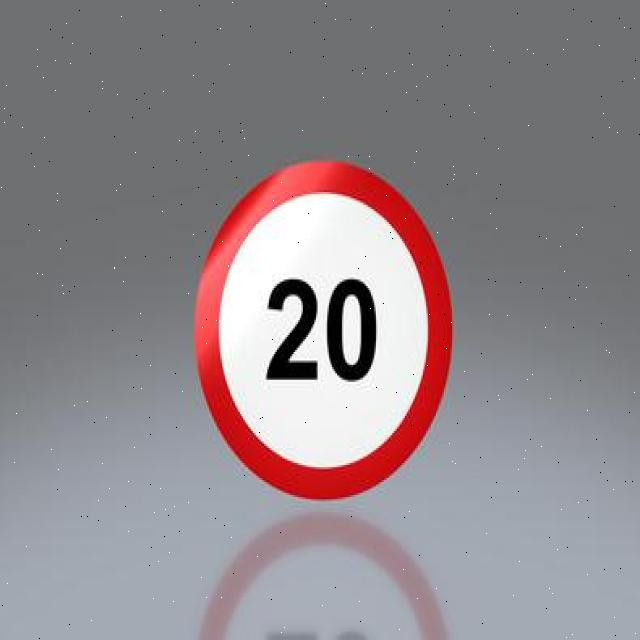speed limit 20: (191, 160, 452, 500)
